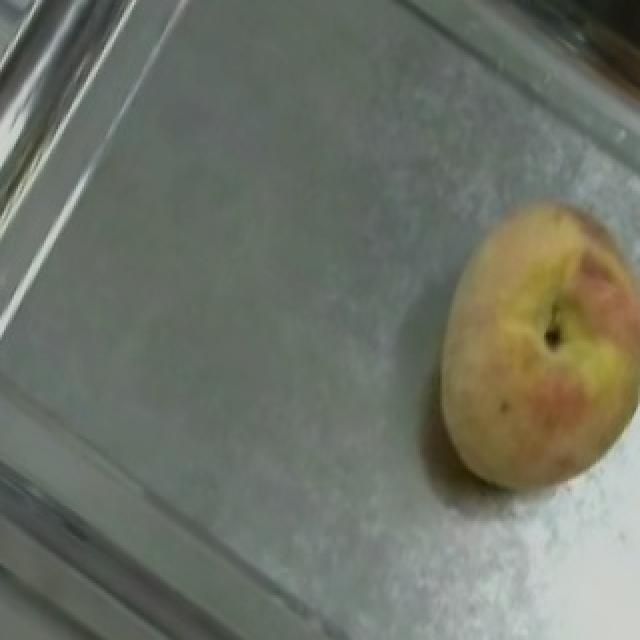Fruit: (388, 156, 640, 521)
